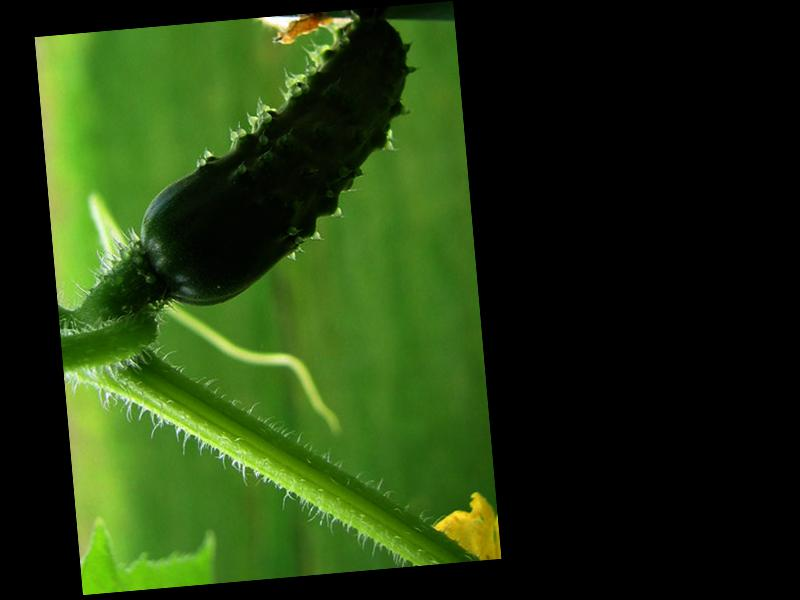Cucumber: (126, 14, 430, 314)
